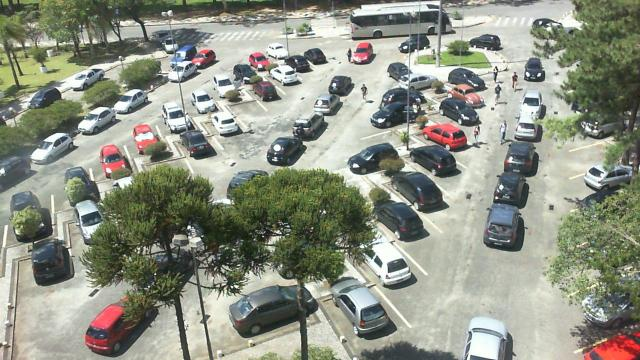empty: (355, 121, 413, 149), (229, 90, 267, 122)
occupied: (322, 275, 402, 349), (236, 282, 324, 342), (351, 226, 425, 292), (386, 162, 450, 214), (373, 199, 439, 249), (405, 140, 459, 184), (416, 115, 468, 154), (339, 140, 398, 174), (94, 138, 136, 182), (426, 98, 478, 132), (368, 99, 426, 127), (437, 83, 489, 113), (181, 125, 219, 163), (126, 121, 166, 157), (204, 106, 243, 140), (158, 102, 196, 136), (380, 84, 434, 106), (449, 69, 491, 95), (204, 70, 240, 100), (265, 60, 303, 88), (248, 74, 284, 102), (225, 59, 261, 87), (183, 86, 217, 115), (282, 50, 318, 74), (400, 71, 442, 89), (246, 50, 276, 74)
